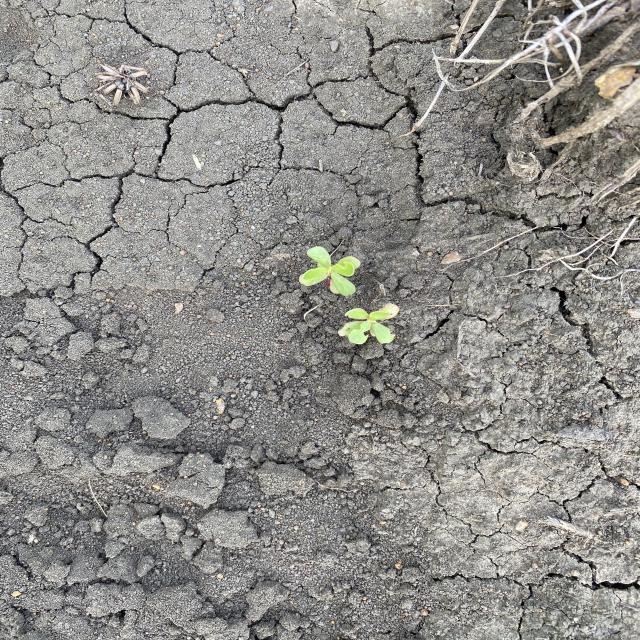Purslane: (296, 244, 364, 300), (335, 306, 403, 348)
